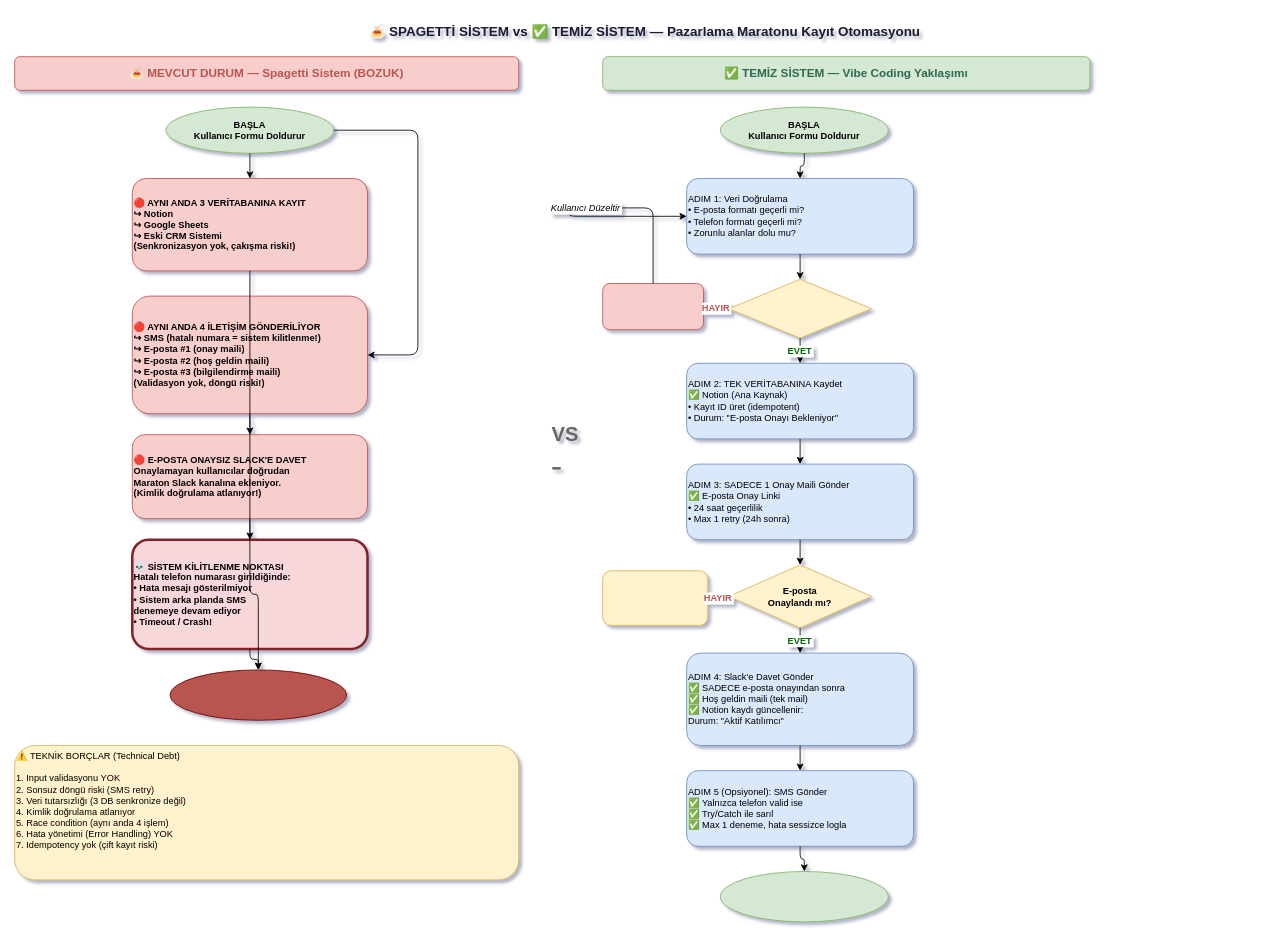
The diagram is 1261 pixels wide and 942 high, and some of its shapes have lost their labels. The centre of each missing label's shape, as x and y in pixels:
"BİTİŞ ✅ Kullanıcı Aktif Katılımcı" belongs at pixel 803 896.
"Veriler Geçerli mi?" belongs at pixel 800 308.
"⏳ 24s Sonra Hatırlatma (1 kez) → Timeout: Pasife al" belongs at pixel 655 597.
"❌ Kullanıcıya Hata Göster Form Durdurulur" belongs at pixel 653 306.
"💥 SİSTEM ÇÖKÜYOR veya ZOMBI SÜREÇ" belongs at pixel 257 694.
